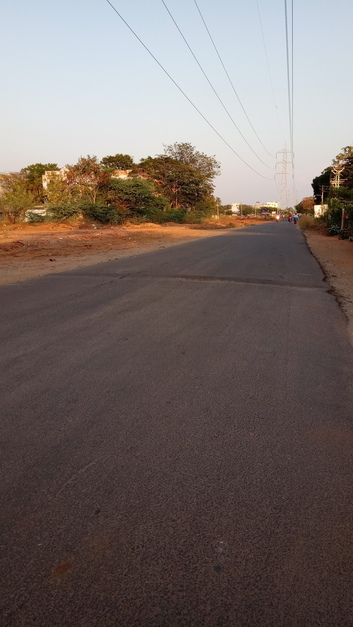bump: (42, 267, 333, 292)
